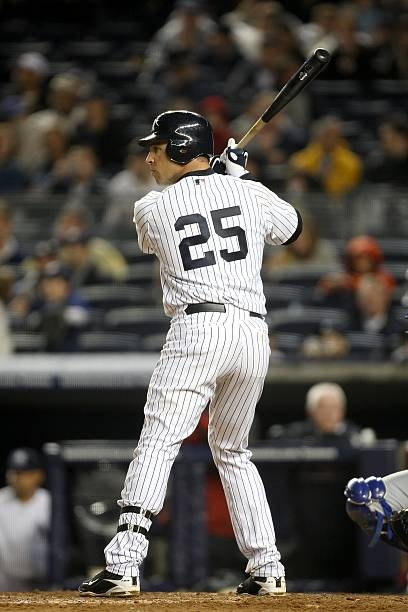bita: (218, 52, 328, 164)
